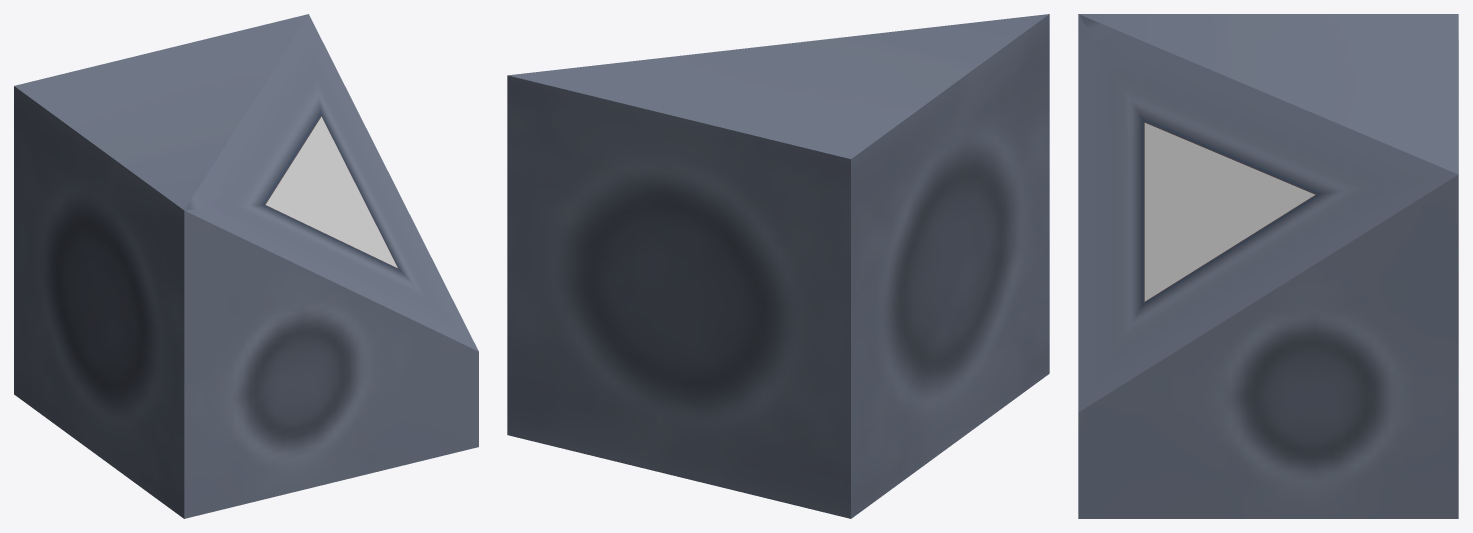
File: obj_spaceship_frame03.fbx
3 views of the same model, side by side, from view 1: azimuth 30°, elevation 25°; view 2: azimuth 150°, elevation 25°; view 3: azimuth 270°, elevation 25° (orthographic). The views are drawn at different scales.
Parts seen in each view (by area): view 1: polySurface254; view 2: polySurface254; view 3: polySurface254.
Part boxes in pixels (<box>): polySurface254: <box>14,14,478,518</box>; polySurface254: <box>507,14,1049,518</box>; polySurface254: <box>1078,14,1458,518</box>.
Size of the model in its own units: 1 by 1 by 1.
